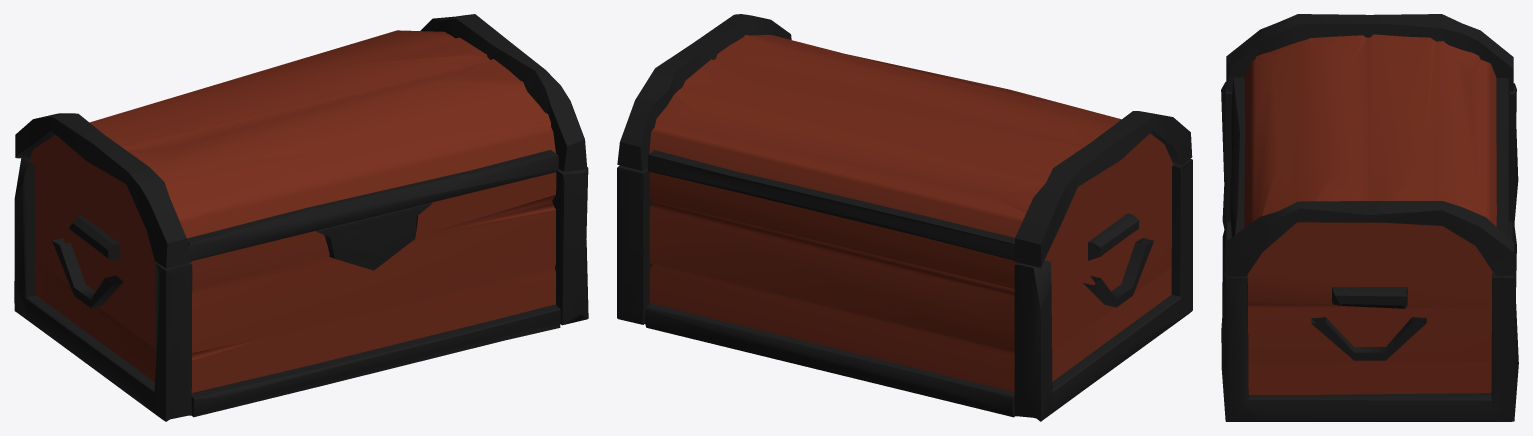
File: Low_Env_Chest.fbx
The picture shows the model from 3 angles, left to right: view 1: azimuth 30°, elevation 25°; view 2: azimuth 150°, elevation 25°; view 3: azimuth 270°, elevation 25°; orthographic projection. The views are drawn at different scales.
Visible parts, largest first — view 1: Low_Chest_BottomHalf, Low_Chest_TopHalf; view 2: Low_Chest_BottomHalf, Low_Chest_TopHalf; view 3: Low_Chest_TopHalf, Low_Chest_BottomHalf.
Boxes of the visible parts, bbox=[...] form: Low_Chest_BottomHalf: bbox=[14, 158, 588, 421]; Low_Chest_TopHalf: bbox=[15, 14, 587, 268]; Low_Chest_BottomHalf: bbox=[617, 158, 1192, 421]; Low_Chest_TopHalf: bbox=[617, 14, 1192, 267]; Low_Chest_TopHalf: bbox=[1224, 14, 1514, 276]; Low_Chest_BottomHalf: bbox=[1221, 82, 1518, 421].
Bounding box in the file's own units: 2.13 × 1.06 × 1.33.
